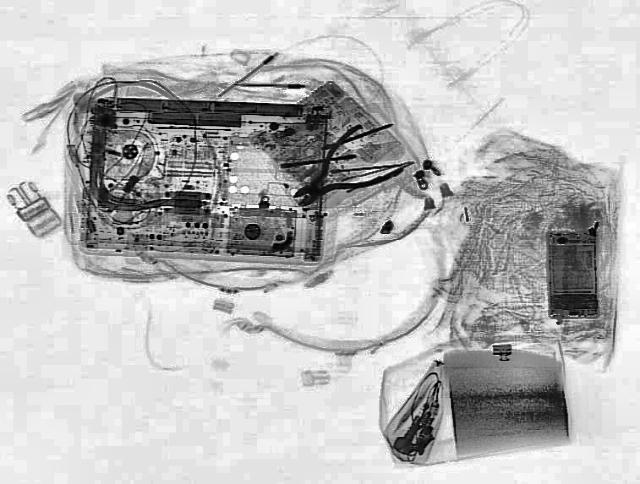Pliers: (268, 122, 414, 222)
